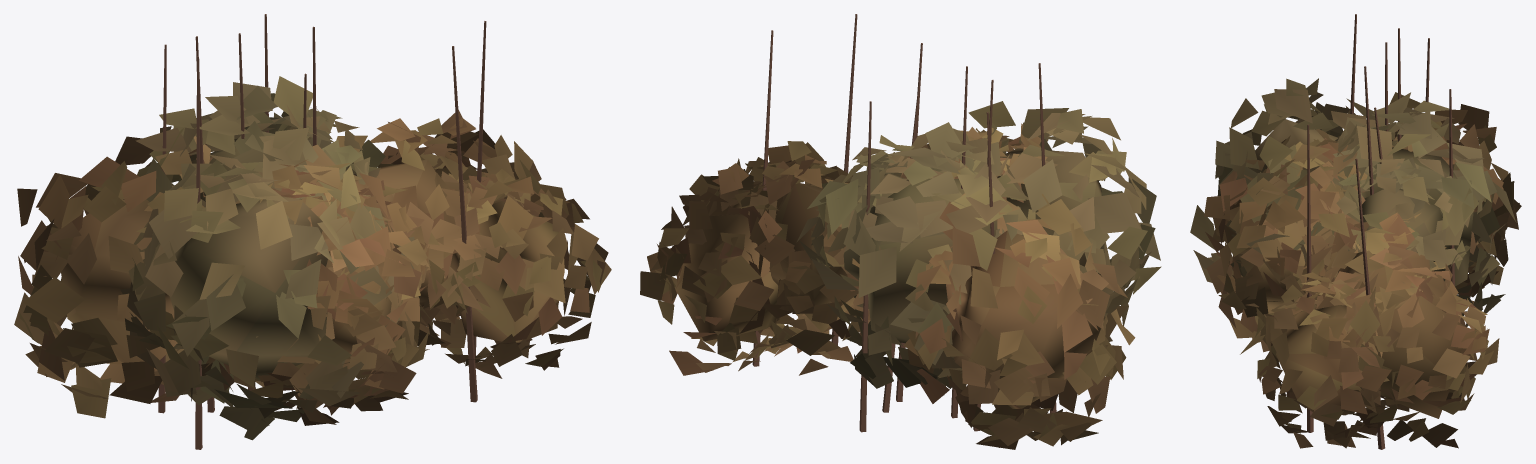
File: matorral_b.glb
3 renders of one model, left to right at view 1: azimuth 30°, elevation 25°; view 2: azimuth 150°, elevation 25°; view 3: azimuth 270°, elevation 25°, orthographic. The views are drawn at different scales.
Parts seen in each view (by area): view 1: MatorralBHojas, MatorralBCopa, MatorralBVarillas; view 2: MatorralBHojas, MatorralBCopa, MatorralBVarillas; view 3: MatorralBHojas, MatorralBCopa, MatorralBVarillas.
Boxes of the visible parts, left/top/right/bottom form: MatorralBHojas: left=14, top=76, right=611, bottom=440; MatorralBCopa: left=61, top=146, right=564, bottom=379; MatorralBVarillas: left=158, top=14, right=486, bottom=449; MatorralBHojas: left=640, top=101, right=1161, bottom=449; MatorralBCopa: left=675, top=148, right=1104, bottom=408; MatorralBVarillas: left=752, top=14, right=1056, bottom=447; MatorralBHojas: left=1190, top=78, right=1521, bottom=448; MatorralBCopa: left=1235, top=119, right=1484, bottom=418; MatorralBVarillas: left=1307, top=14, right=1454, bottom=449.
Bounding box in the file's own units: 2.9 × 2.05 × 1.94.
